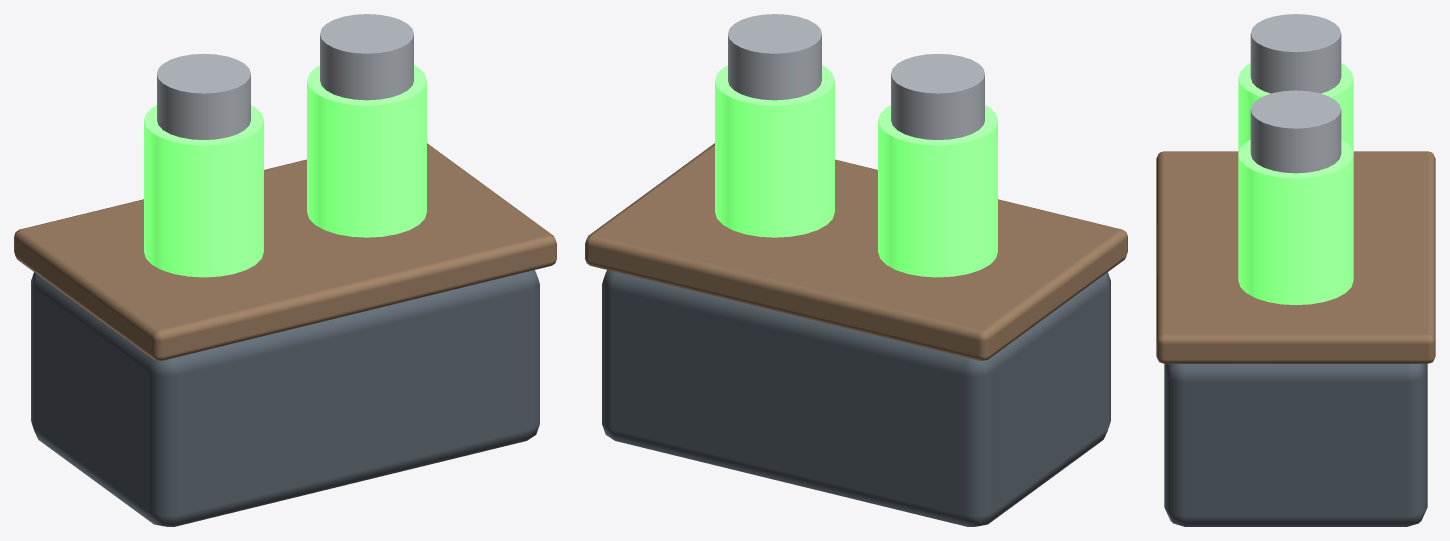
File: arena-shooter-map-kit-ammo-grenade-ec12194f__23120.glb
3 renders of one model, left to right at view 1: azimuth 30°, elevation 25°; view 2: azimuth 150°, elevation 25°; view 3: azimuth 270°, elevation 25°, orthographic. The views are drawn at different scales.
Parts seen in each view (by area): view 1: ammo-grenade; view 2: ammo-grenade; view 3: ammo-grenade.
Part boxes in pixels (x1,y1,x2,y2): ammo-grenade: (14, 14, 556, 526); ammo-grenade: (585, 14, 1127, 526); ammo-grenade: (1156, 14, 1435, 526).
Size of the model in its own units: 0.545 by 0.5 by 0.34.
